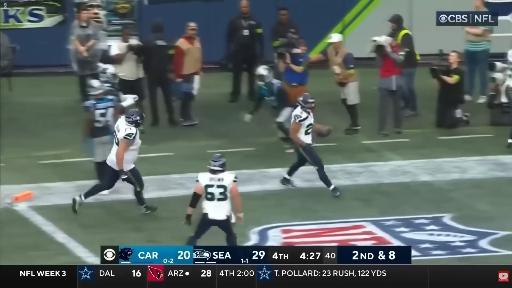Helmet: (98, 63, 118, 85), (125, 109, 144, 127), (87, 80, 108, 95), (256, 66, 273, 84), (209, 154, 226, 170), (298, 94, 314, 110)
Jersey: (196, 172, 237, 219), (107, 116, 141, 170), (84, 95, 119, 138), (258, 79, 290, 109), (292, 106, 313, 143), (107, 87, 136, 111)
Player: (72, 109, 156, 213), (281, 94, 339, 196), (185, 154, 243, 245), (84, 80, 123, 181), (244, 66, 294, 141), (98, 63, 138, 107), (98, 63, 118, 93), (507, 129, 511, 148)
